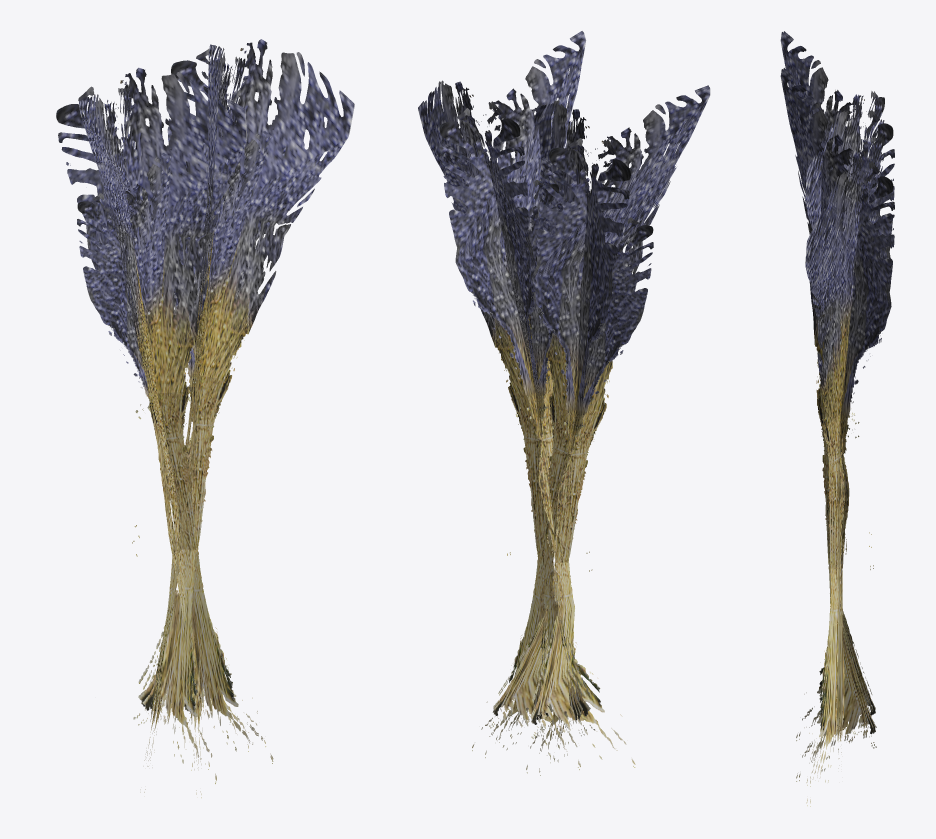
File: Flax.glb
3 views of the same model, side by side, from view 1: azimuth 30°, elevation 25°; view 2: azimuth 150°, elevation 25°; view 3: azimuth 270°, elevation 25° (orthographic). The views are drawn at different scales.
Parts seen in each view (by area): view 1: HarvestedFlax; view 2: HarvestedFlax; view 3: HarvestedFlax.
Boxes of the visible parts, left/top/right/bottom form: HarvestedFlax: left=56, top=39, right=354, bottom=797; HarvestedFlax: left=418, top=31, right=710, bottom=775; HarvestedFlax: left=780, top=31, right=894, bottom=806.
Size of the model in its own units: 9.59 by 22.31 by 4.41.
Materials: 1 (1 with a texture image).
